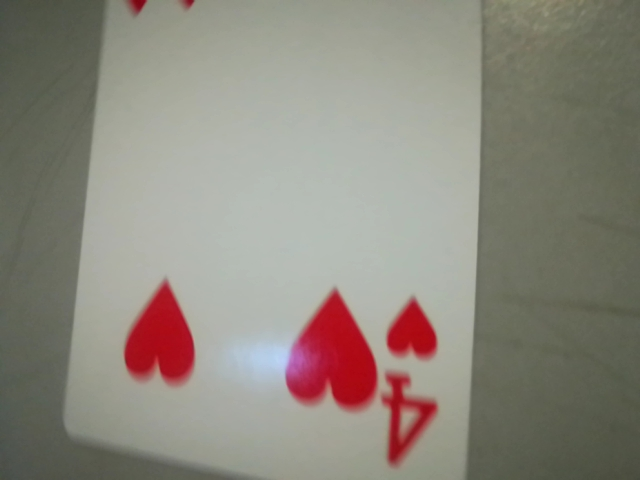hx 4: (369, 284, 463, 480)
